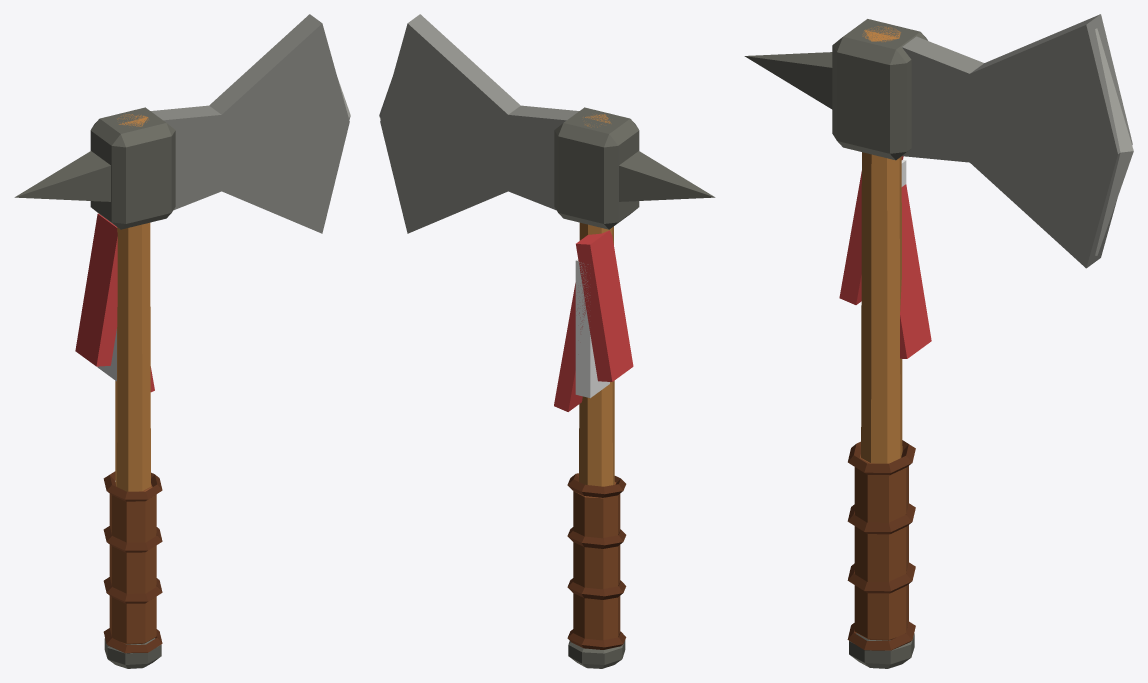
The model's file is StoneTomahawk.fbx.
3 views of the same model, side by side, from view 1: azimuth 30°, elevation 25°; view 2: azimuth 150°, elevation 25°; view 3: azimuth 330°, elevation 25° (orthographic). The views are drawn at different scales.
Visible parts, largest first — view 1: StoneTomahawk; view 2: StoneTomahawk; view 3: StoneTomahawk.
Part boxes in pixels (x1,y1,x2,y2): StoneTomahawk: [14, 14, 350, 668]; StoneTomahawk: [379, 14, 715, 668]; StoneTomahawk: [744, 14, 1133, 668].
Size of the model in its own units: 1.84 by 3.12 by 0.35.
Materials: 1 (1 with a texture image).
